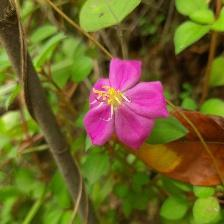malabar melastome: (85, 57, 171, 155)
